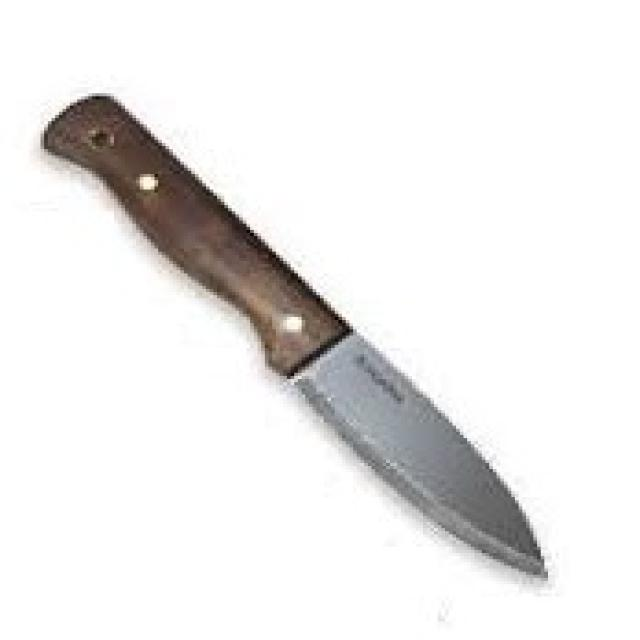knife: (28, 86, 560, 583)
